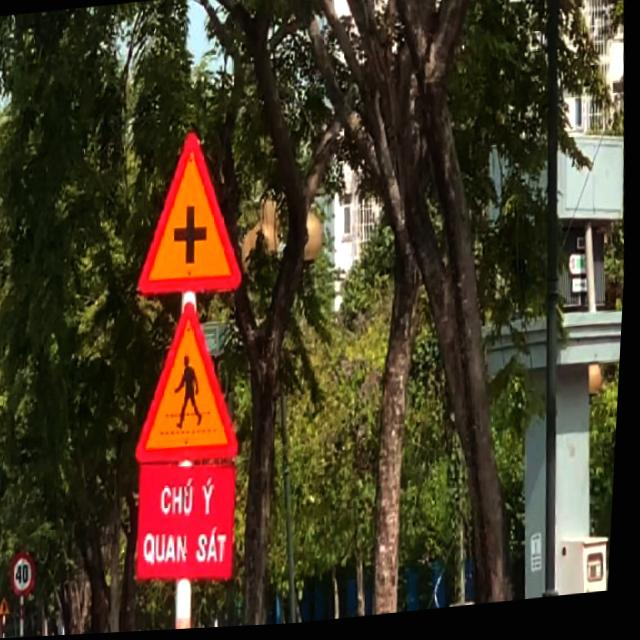Giao nhau voi duong khong uu tien ben phai: (3, 594, 19, 617)
Nguoi di bo cat ngang: (128, 291, 254, 476)
Toc do toi da cho phep: (12, 550, 45, 601)
